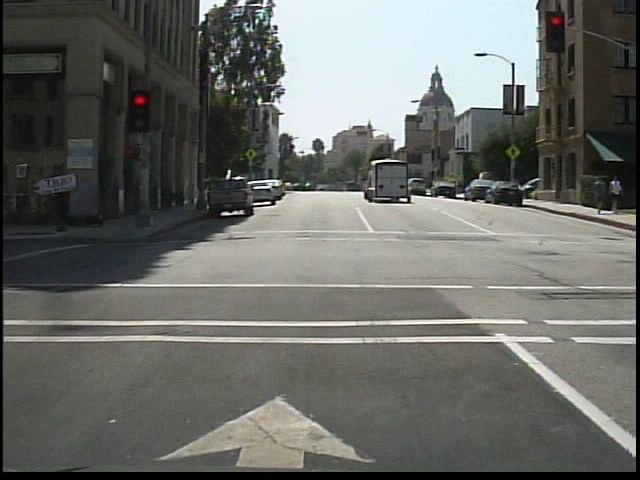person: (49, 165, 90, 235), (589, 176, 609, 219), (608, 175, 623, 219)
